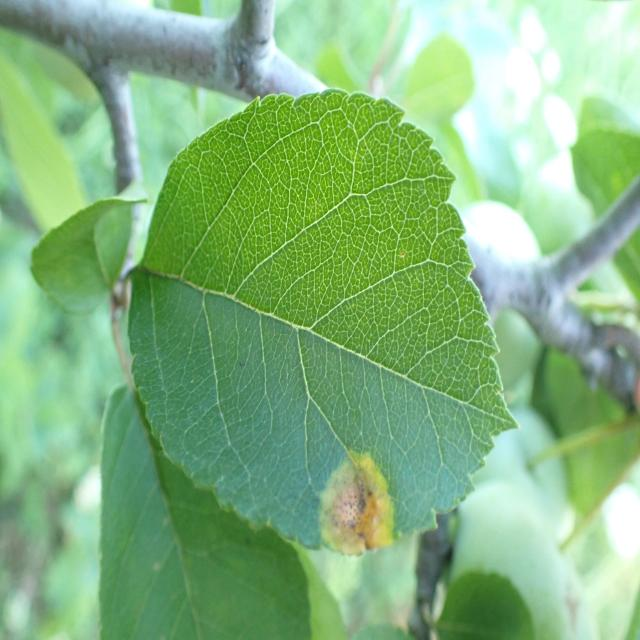rust: (127, 88, 519, 559)
